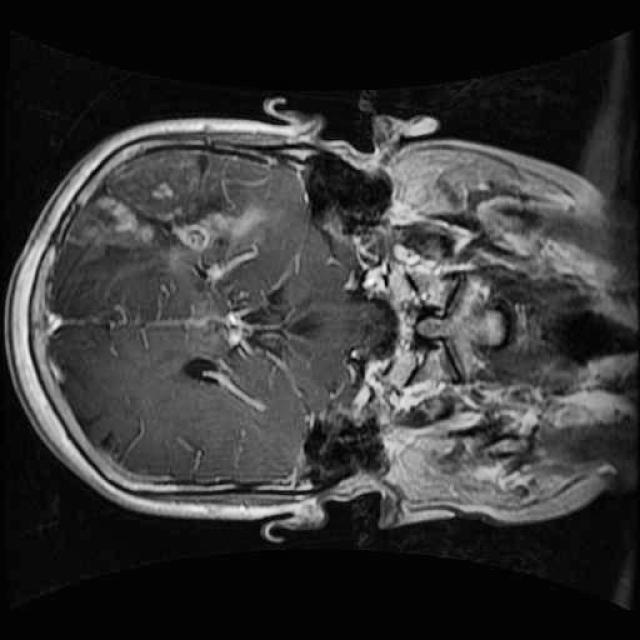Tumor: (56, 138, 296, 298)
